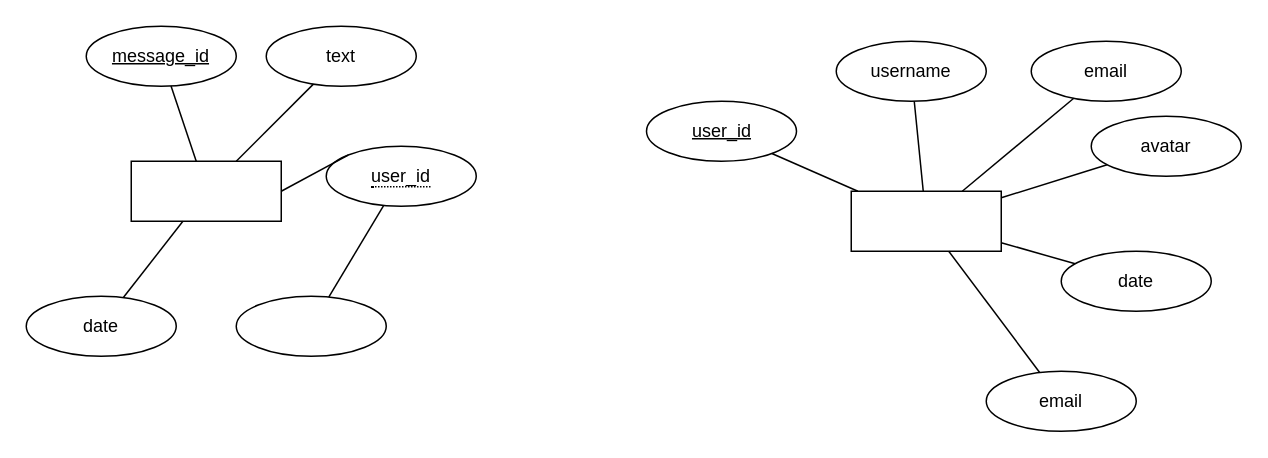
Image size: 1268x458. Some labels were removed from this diagram. The centre of each missing label's shape, as x and y in pixels:
message: the point at 205,190
title: the point at 310,325
user: the point at 925,220
